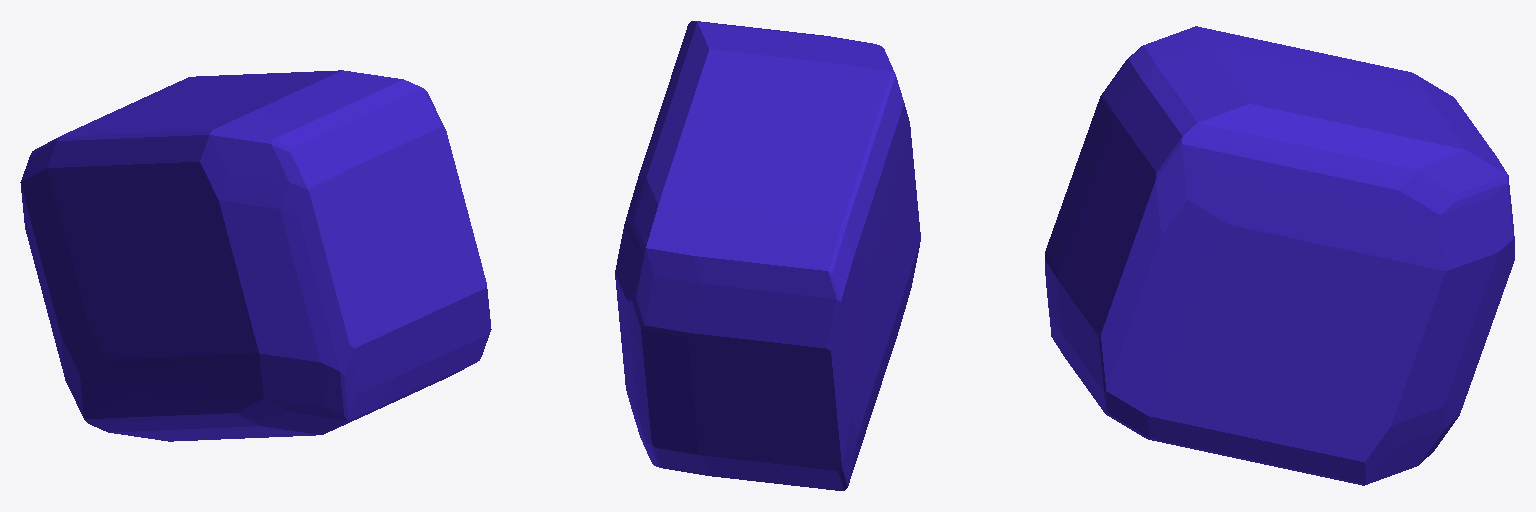
URDF robot description (matlab_mesh_step7_link6.obj):
<robot name="matlab_mesh_step7_link6.obj">
	<link name="link0">
		<visual>
			<origin xyz="0 0 0" rpy="0 0 0" />
			<geometry>
				<mesh filename="matlab_mesh_step7_link6.obj" scale="1.0 1.0 1.0" />
			</geometry>
			<material name="texture">
				<color rgba="0.3 0.2 0.8 0.5" />
			</material>
		</visual>
		<inertial>
			<mass value="0" />
			<inertia ixx="0.0" ixy="0.0" ixz="0.0" iyy="0.0" iyz="0.0" izz="0.0" />
		</inertial>
	<collision><geometry><mesh filename="matlab_mesh_step7_link6.obj" /></geometry></collision></link>
</robot>

--- What the picture shows (computed from the rendered views, not written in the file) ---
The picture shows the robot from 3 angles, left to right: view 1: azimuth 30°, elevation 25°; view 2: azimuth 150°, elevation 25°; view 3: azimuth 270°, elevation 25°; orthographic projection.
Model matlab_mesh_step7_link6.obj with 1 links and 0 joints (none), rooted at link0, posed every joint at zero.
Links seen in each view (by area): view 1: link0; view 2: link0; view 3: link0.
Boxes of the visible links, <box> form: link0: <box>20,70,491,441</box>; link0: <box>615,21,920,490</box>; link0: <box>1045,26,1514,485</box>.
Size in the robot's own frame: 0.2661 by 0.3307 by 0.2943 metres.
1 mesh visuals loaded from 1 distinct referenced files (1 OBJ).